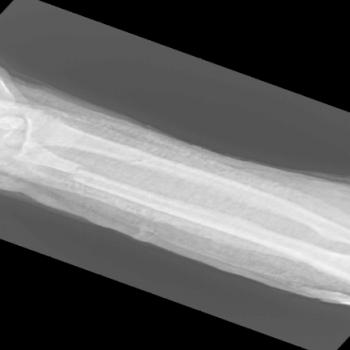Fracture: (66, 161, 90, 180)
